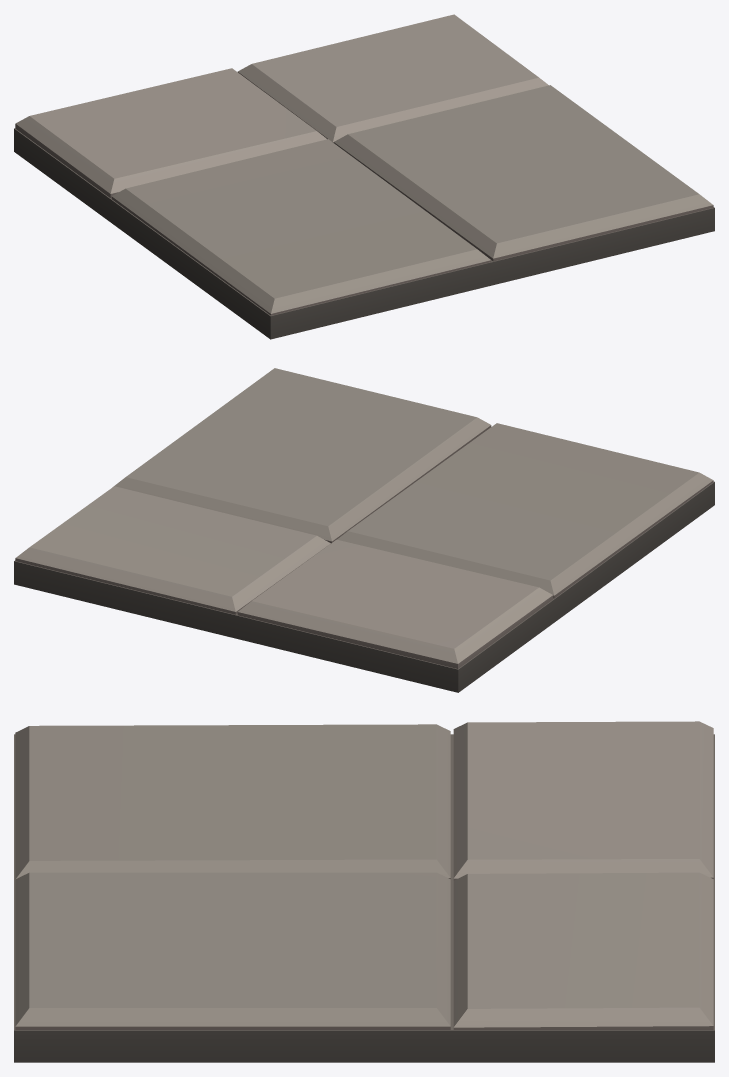
Rendered from floor_flagstones_small_B.glb.
3 views of the same model, one above another, from view 1: azimuth 30°, elevation 25°; view 2: azimuth 150°, elevation 25°; view 3: azimuth 270°, elevation 25° (orthographic). The views are drawn at different scales.
Parts seen in each view (by area): view 1: Item; view 2: Item; view 3: Item.
Boxes of the visible parts, x1,y1,x2,y2 form: Item: [14, 14, 714, 339]; Item: [14, 368, 714, 692]; Item: [14, 721, 714, 1062].
Size of the model in its own units: 2 by 0.1615 by 2.
1 material, 1 textured.
